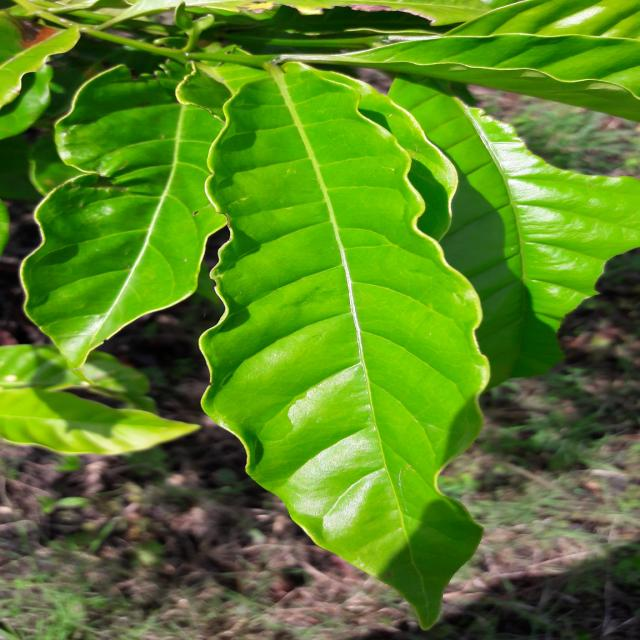Sanas: (174, 60, 490, 631)
